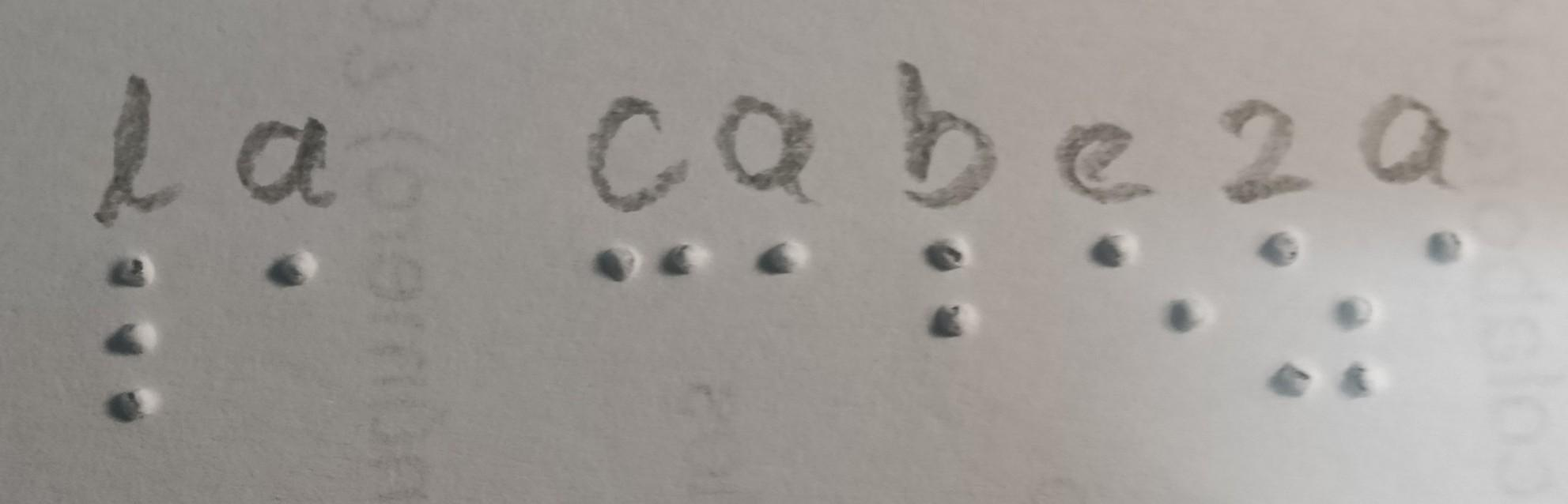a: (1390, 211, 1494, 278), (233, 233, 350, 292), (731, 221, 832, 288)
b: (897, 223, 1014, 342)
c: (565, 227, 725, 308)
e: (1067, 225, 1214, 369)
l: (105, 237, 190, 429)
z: (1249, 227, 1386, 405)
